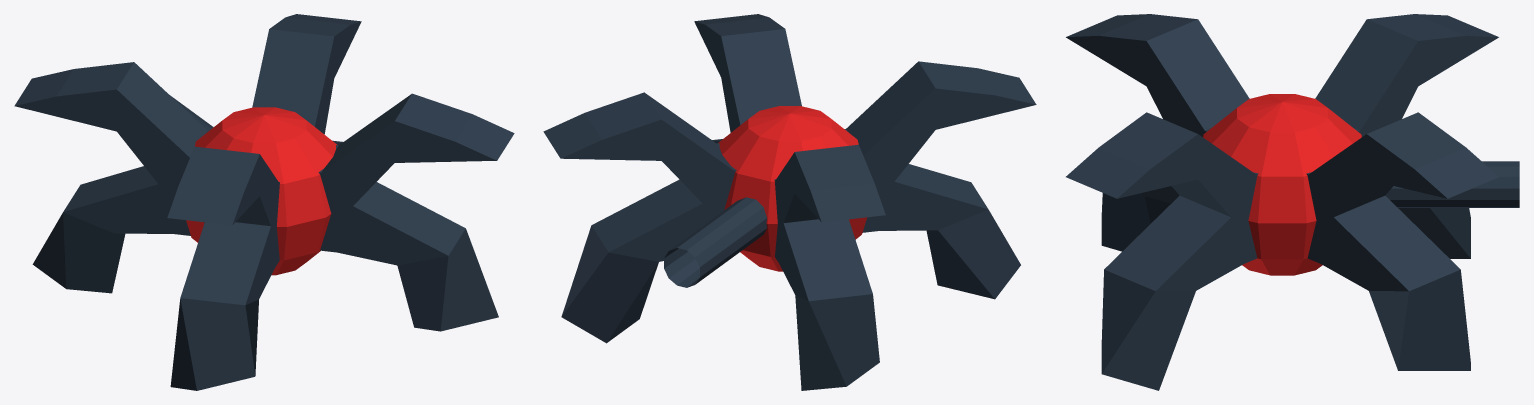
The model's file is flying_enemy.gltf.
3 views of the same model, side by side, from view 1: azimuth 30°, elevation 25°; view 2: azimuth 150°, elevation 25°; view 3: azimuth 270°, elevation 25° (orthographic). The views are drawn at different scales.
Parts seen in each view (by area): view 1: additions, body; view 2: additions, body, barrel; view 3: additions, body, barrel.
Part boxes in pixels (bbox=[...]): additions: bbox=[14, 14, 514, 390]; body: bbox=[186, 107, 337, 275]; additions: bbox=[543, 14, 1036, 390]; body: bbox=[718, 106, 866, 271]; barrel: bbox=[664, 197, 766, 287]; additions: bbox=[1066, 14, 1498, 390]; body: bbox=[1203, 94, 1361, 275]; barrel: bbox=[1385, 161, 1519, 207].
Size of the model in its own units: 4.76 by 2.84 by 4.98.
2 materials, 2 textured.
